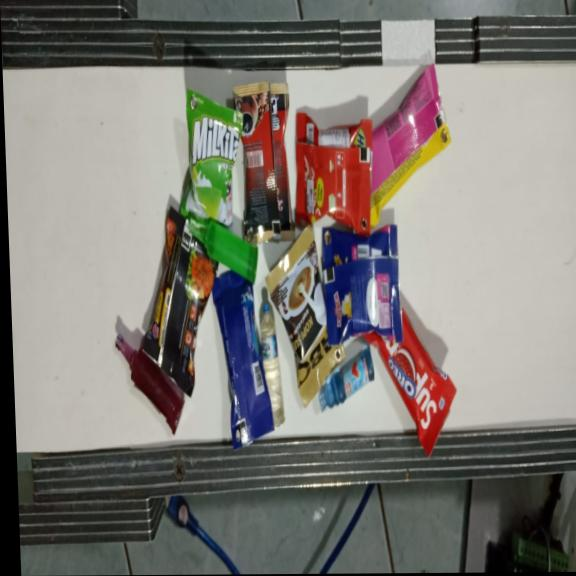Plastik: (135, 205, 225, 399), (352, 64, 455, 228), (359, 296, 459, 458), (263, 226, 348, 407), (210, 268, 275, 450), (175, 87, 247, 235), (292, 113, 376, 236), (233, 82, 297, 242), (321, 224, 404, 345), (114, 332, 186, 432), (189, 214, 260, 283), (316, 347, 377, 412), (257, 303, 286, 428)
